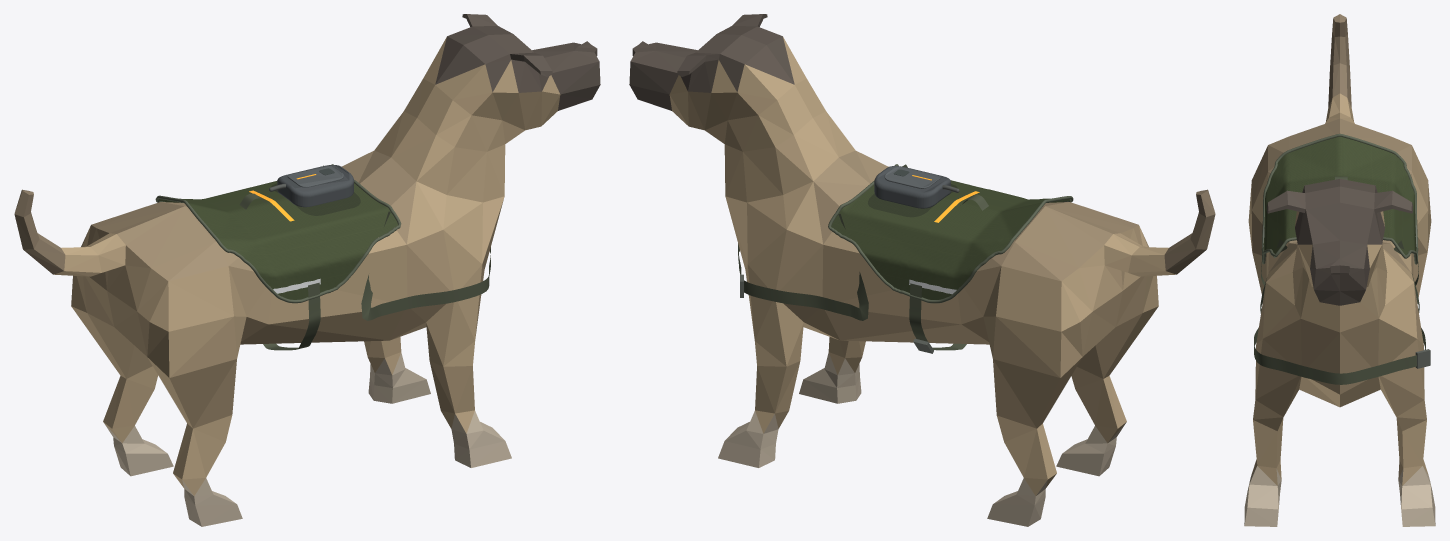
The model's file is gmah-k9-dog-vest.glb.
3 views of the same model, side by side, from view 1: azimuth 30°, elevation 25°; view 2: azimuth 150°, elevation 25°; view 3: azimuth 270°, elevation 25° (orthographic). The views are drawn at different scales.
Parts seen in each view (by area): view 1: dog, object 2, object 17, object 9, object 3, object 15, object 10, object 4; view 2: dog, object 2, object 17, object 9, object 3, object 15, object 10, object 4; view 3: dog, object 2, object 17, object 3, object 18.
Part boxes in pixels (x1,y1,x2,y2): dog: (14, 14, 600, 526); object 2: (159, 181, 398, 299); object 17: (323, 165, 490, 320); object 9: (277, 165, 353, 207); object 3: (155, 164, 401, 303); object 15: (263, 282, 320, 350); object 10: (287, 166, 343, 187); object 4: (271, 183, 360, 215); dog: (629, 14, 1215, 526); object 2: (831, 180, 1069, 299); object 17: (738, 164, 907, 320); object 9: (874, 166, 951, 208); object 3: (828, 164, 1073, 303); object 15: (909, 283, 966, 350); object 10: (884, 167, 940, 188); object 4: (868, 184, 957, 217); dog: (1244, 14, 1435, 526); object 2: (1263, 136, 1416, 254); object 17: (1254, 239, 1425, 384); object 3: (1261, 133, 1418, 264); object 18: (1415, 349, 1430, 368).
Bounding box in the file's own units: 1.24 × 0.7889 × 0.3828.
14 materials, 2 textured.
